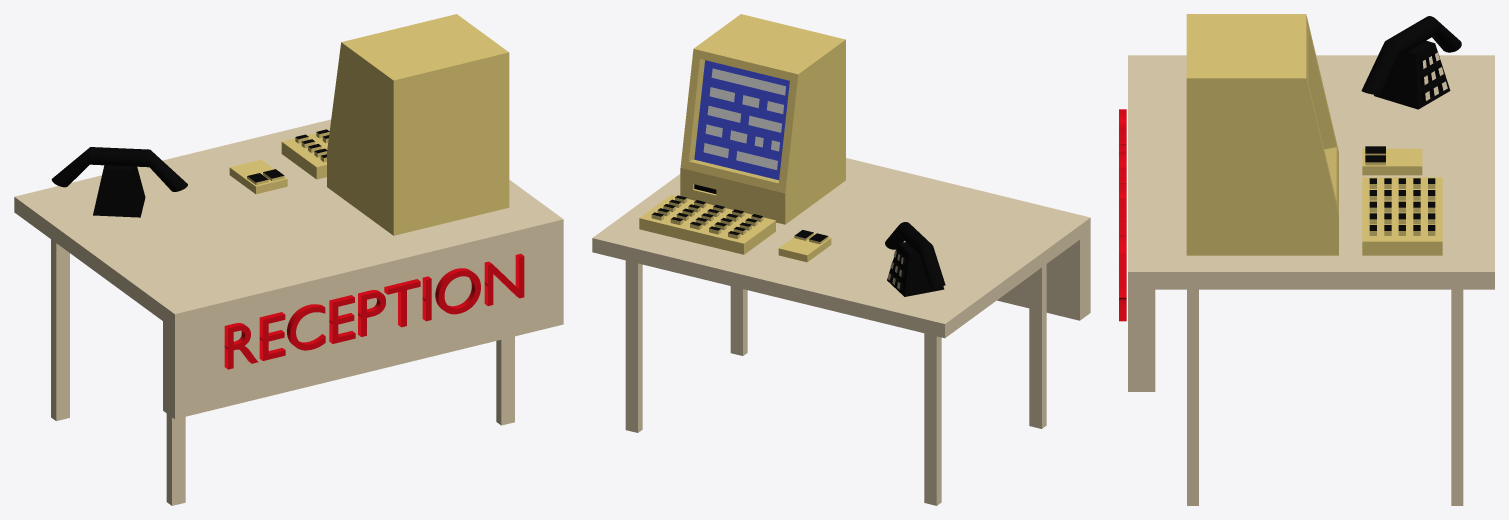
The model's file is ReceptionDesk2.fbx.
3 views of the same model, side by side, from view 1: azimuth 30°, elevation 25°; view 2: azimuth 150°, elevation 25°; view 3: azimuth 270°, elevation 25° (orthographic). The views are drawn at different scales.
Parts seen in each view (by area): view 1: Reception; view 2: Reception; view 3: Reception.
Part boxes in pixels (box(x1,y1,x2,y2)): Reception: box(14, 14, 563, 505); Reception: box(592, 14, 1090, 505); Reception: box(1119, 14, 1494, 505).
Bounding box in the file's own units: 673 × 614 × 493.
